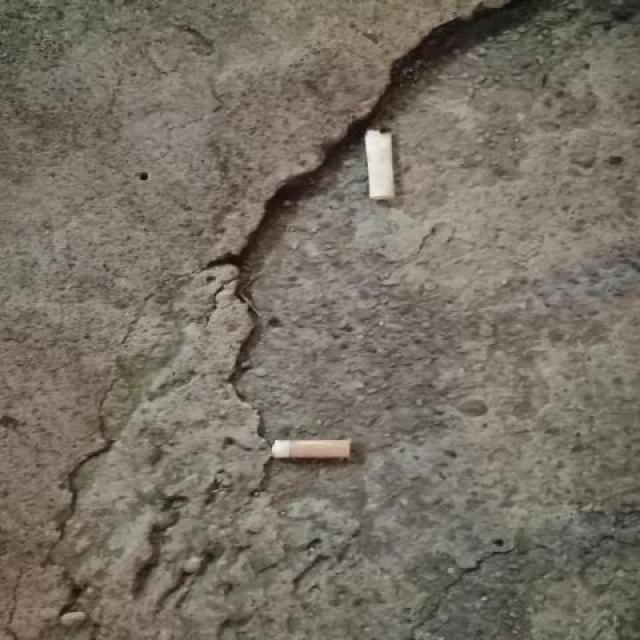non-organic waste: (363, 124, 400, 209), (268, 433, 356, 468)
